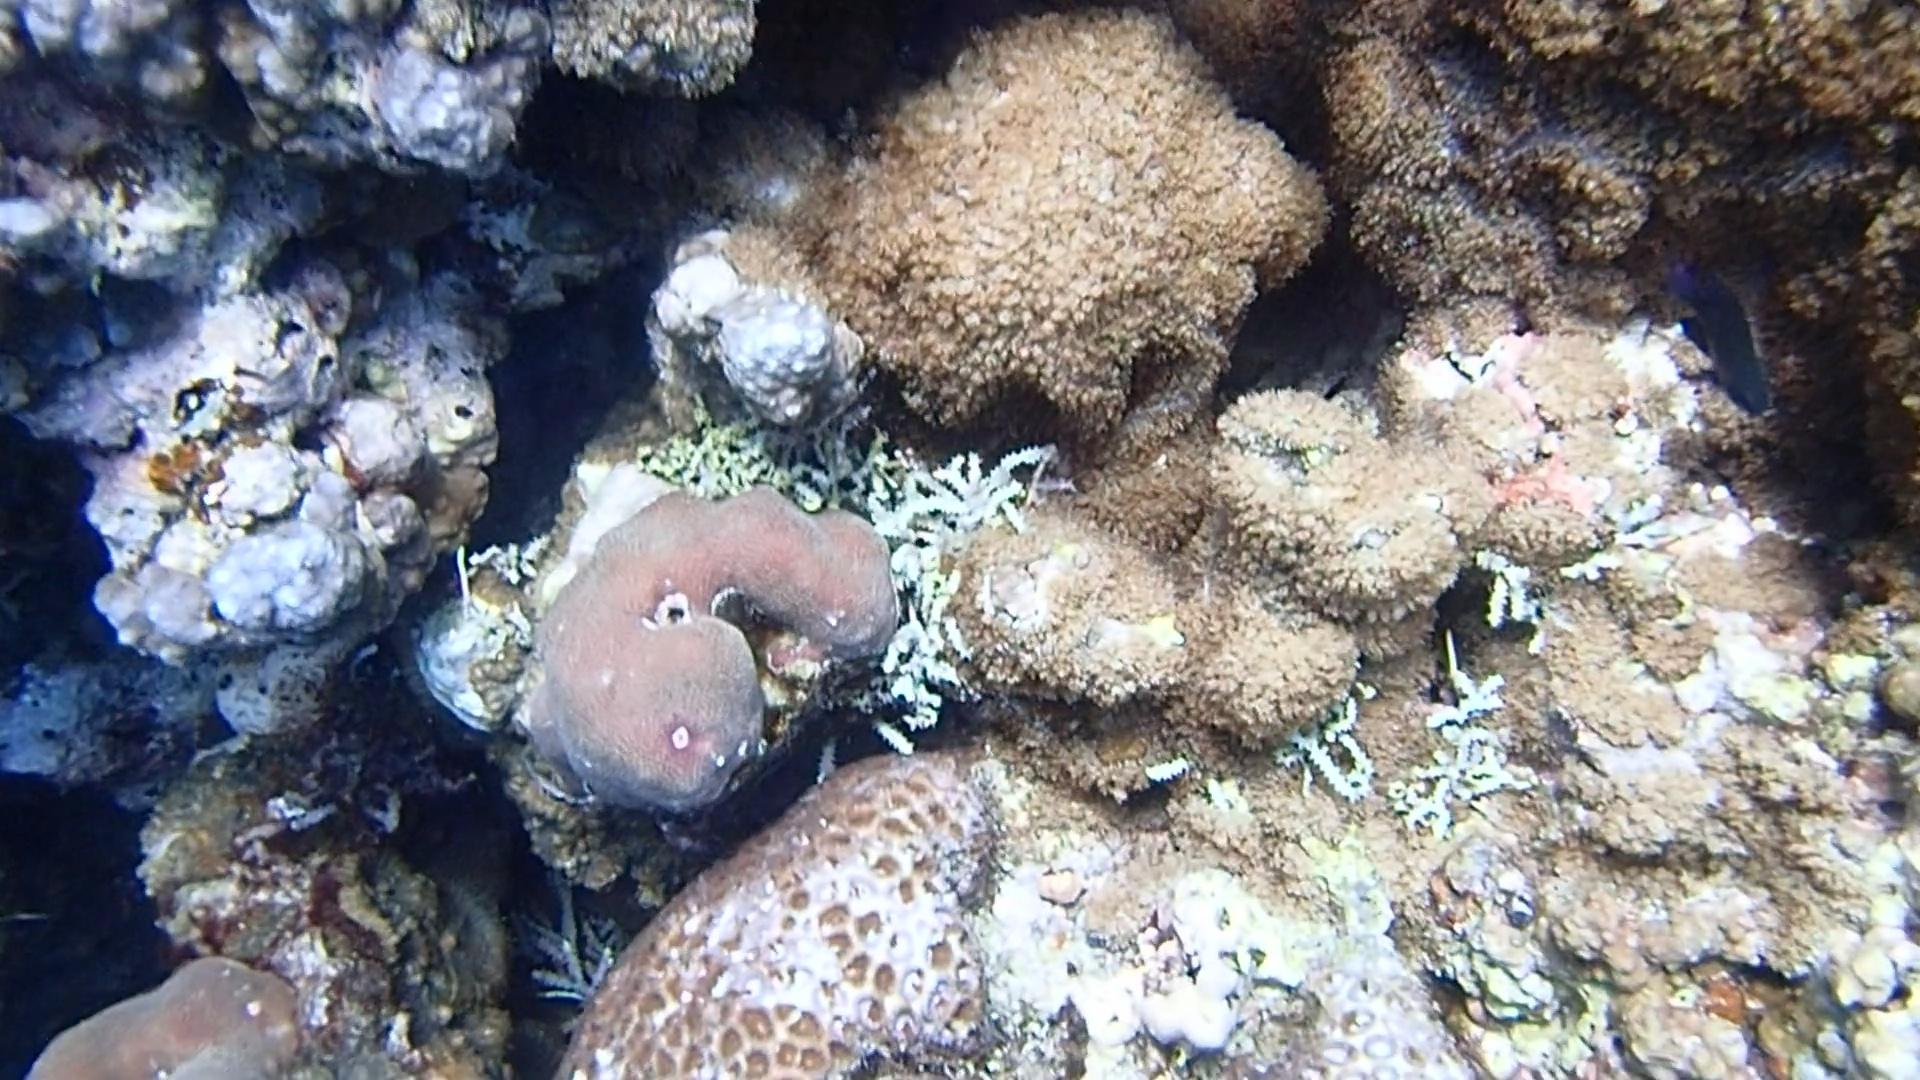Dark Fish: (1659, 253, 1803, 431)
